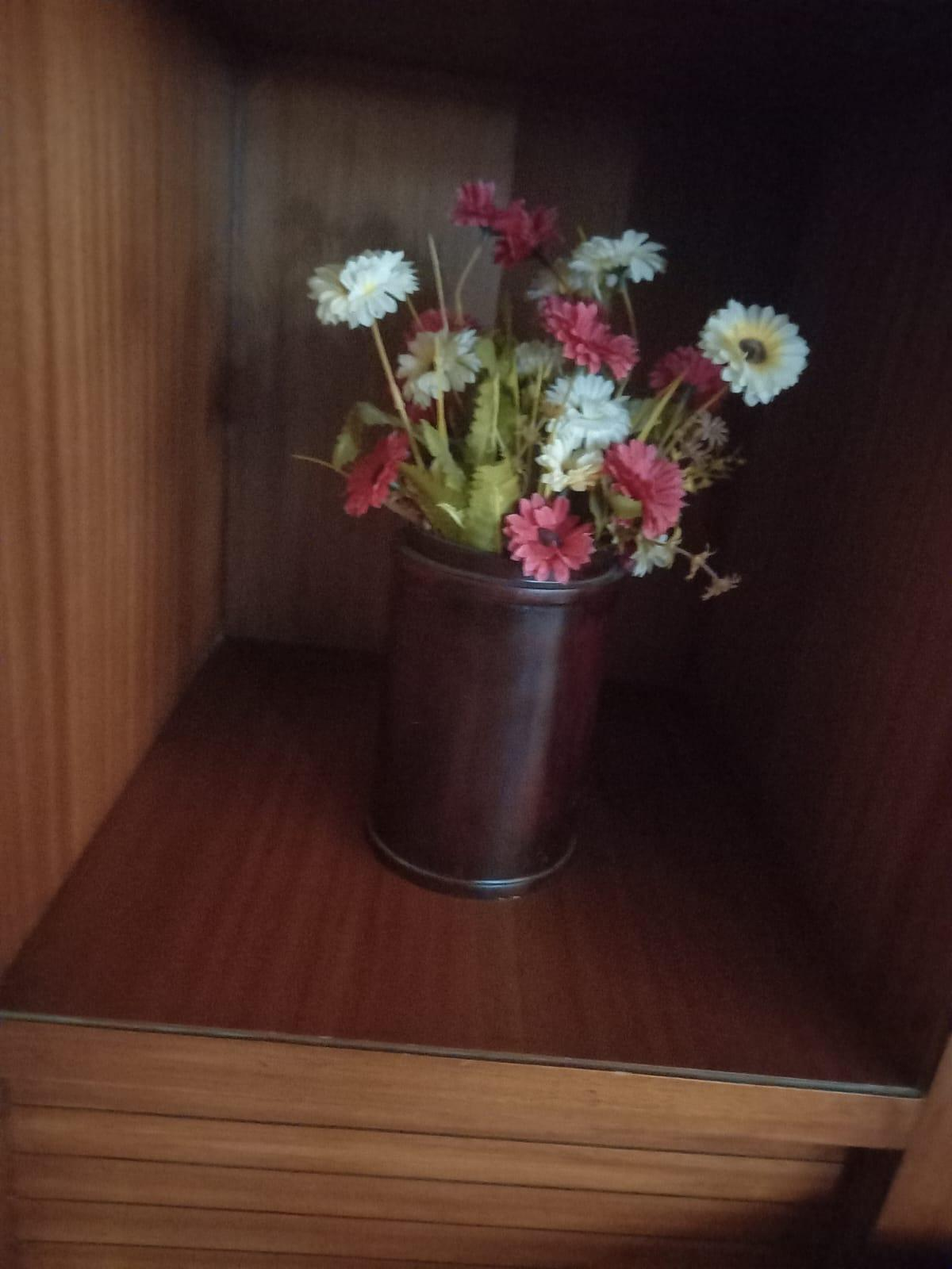vase: (306, 180, 768, 888)
